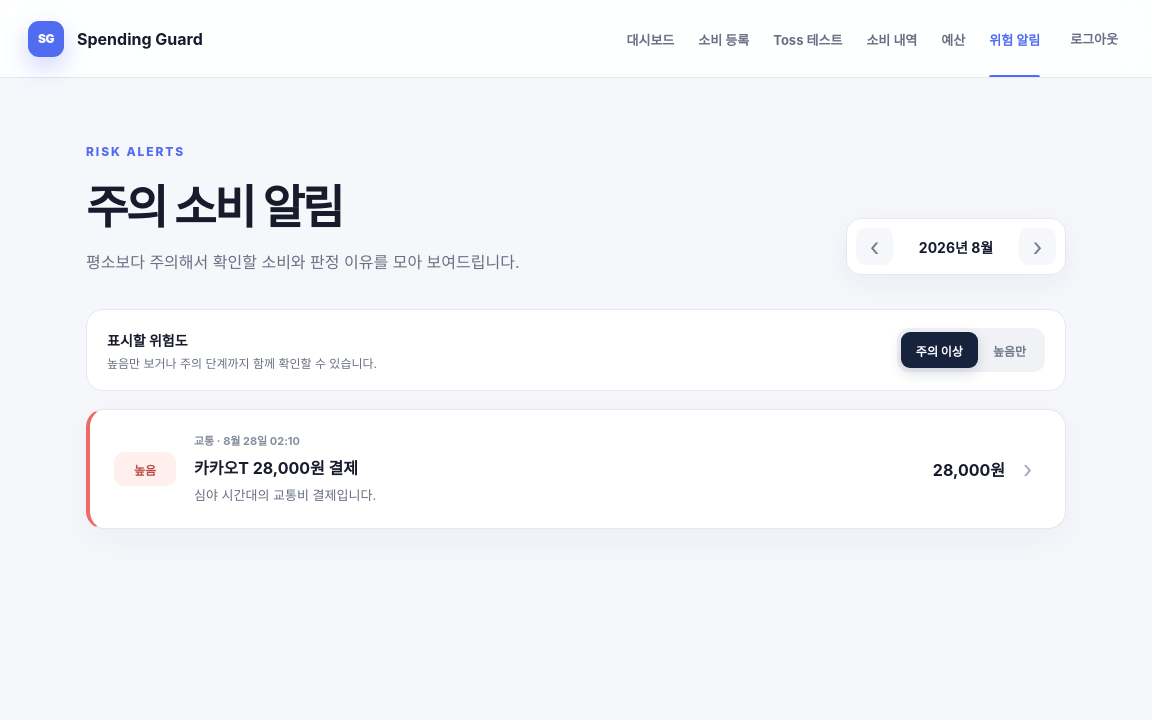
it: RiskAlertFeed › removes an alert when category correction lowers its risk
Click the button with aria-label "카카오T 28,000원 결제 상세 보기" at (145,469), box [86,409,1066,529]
(page scrolled)
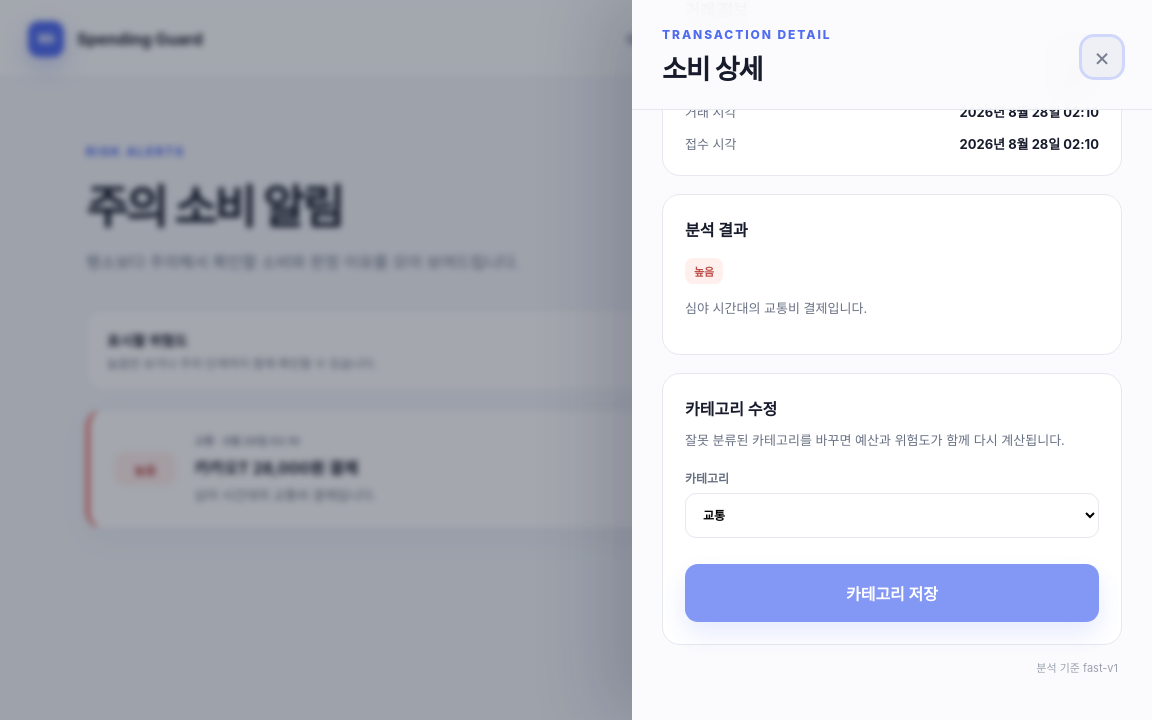
Select "기타" in the dropdown labelled "카테고리" at (892,516), box [685,493,1099,538]
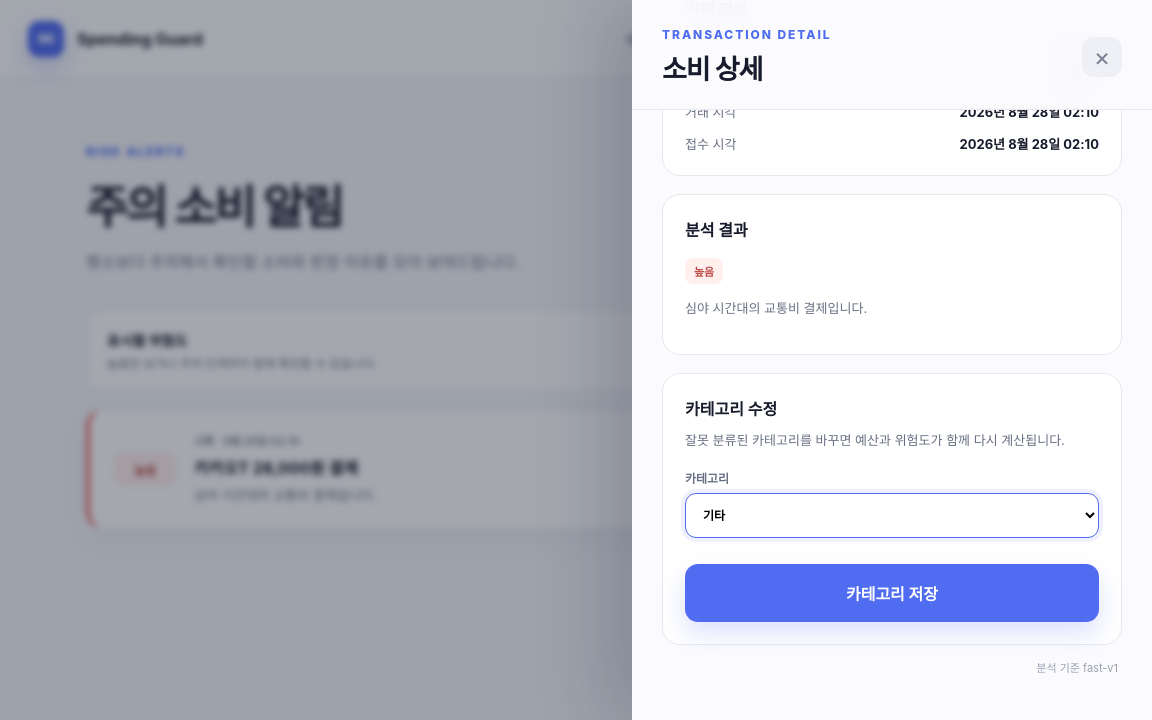
Click the button "카테고리 저장" at (892,593), box [685,564,1099,622]
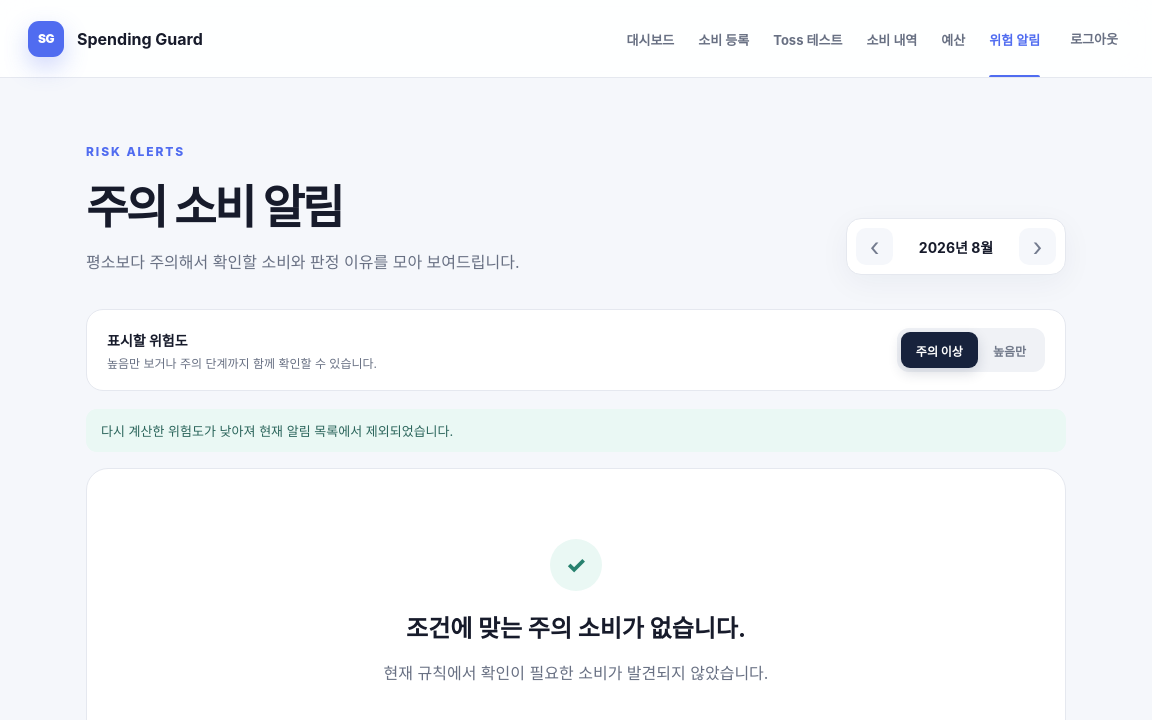
Expected: the message shows "현재 알림 목록에서 제외되었습니다.", [101,423,453,439]
Expected: the button "카카오T 28,000원 결제" is gone
Expected: the dialog is gone
